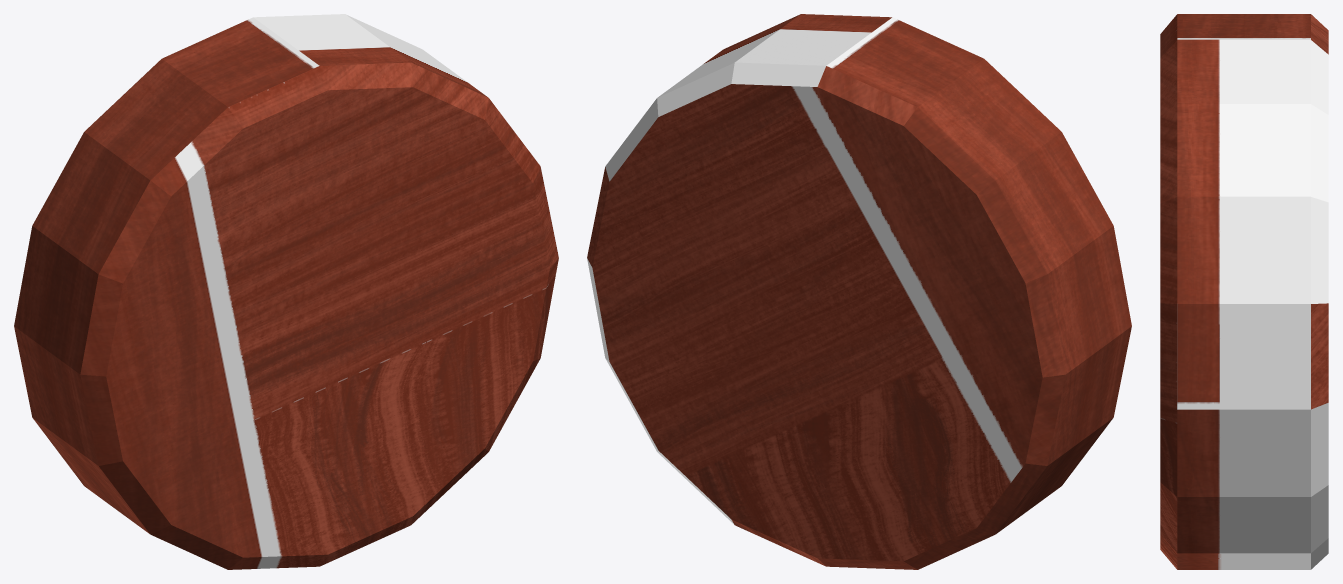
Rendered from saat.obj.
3 renders of one model, left to right at view 1: azimuth 30°, elevation 25°; view 2: azimuth 150°, elevation 25°; view 3: azimuth 270°, elevation 25°, orthographic.
Visible parts, largest first — view 1: Circle.001; view 2: Circle.001; view 3: Circle.001.
Part boxes in pixels (left/top/right/bottom): Circle.001: left=14, top=14, right=558, bottom=569; Circle.001: left=587, top=14, right=1131, bottom=569; Circle.001: left=1160, top=14, right=1328, bottom=569.
Bounding box in the file's own units: 2.13 × 2.13 × 0.643.
